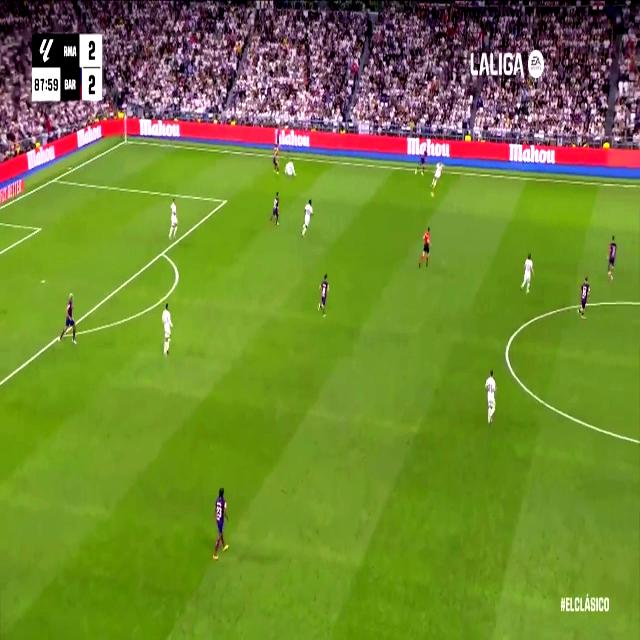bigarea_top_outter: (52, 174, 56, 184)
bottom_arc_area_intersection: (62, 326, 68, 340)
corner: (123, 136, 129, 144)
halfcircle_bottom: (635, 426, 640, 454)
smallarea_top_inner: (36, 224, 41, 234)
top_arc_area_intersection: (158, 243, 166, 261)
